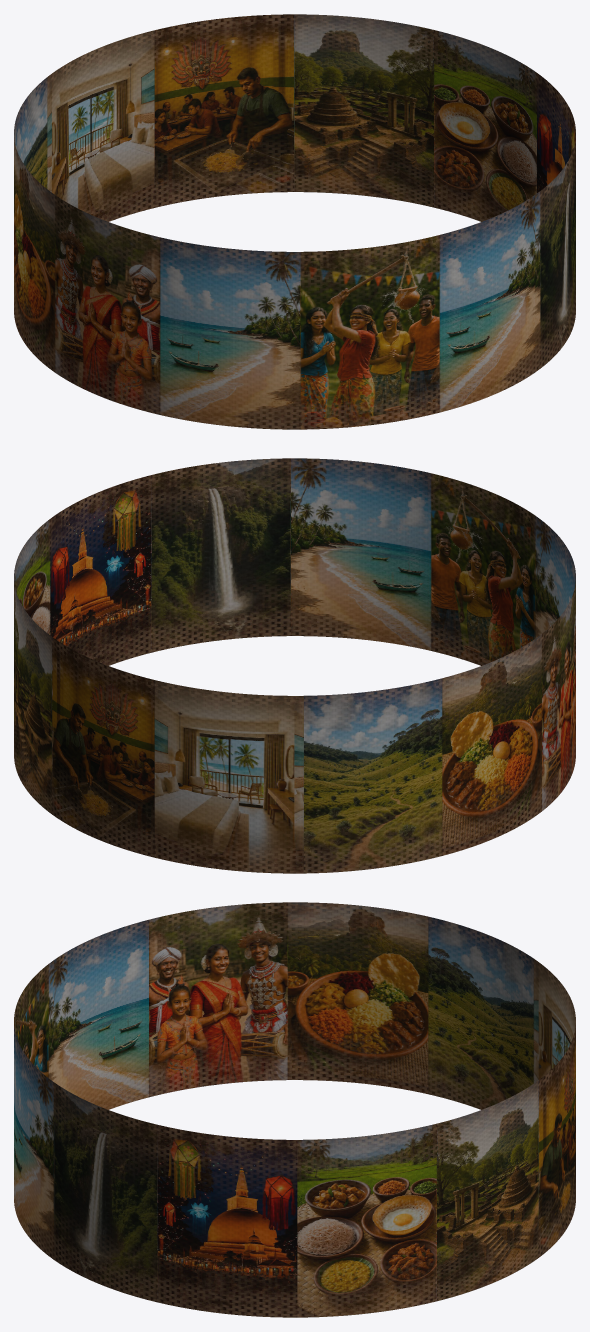
Rendered from beauty_of_srilanka.glb.
3 renders of one model, top to bottom at view 1: azimuth 30°, elevation 25°; view 2: azimuth 150°, elevation 25°; view 3: azimuth 270°, elevation 25°, orthographic.
Visible parts, largest first — view 1: Cylinder.031; view 2: Cylinder.031; view 3: Cylinder.031.
Part boxes in pixels (x1,y1,x2,y2): Cylinder.031: (14, 14, 575, 429); Cylinder.031: (14, 458, 575, 873); Cylinder.031: (14, 902, 575, 1317).
Bounding box in the file's own units: 2.87 × 1 × 2.87.
1 material, 1 textured.
